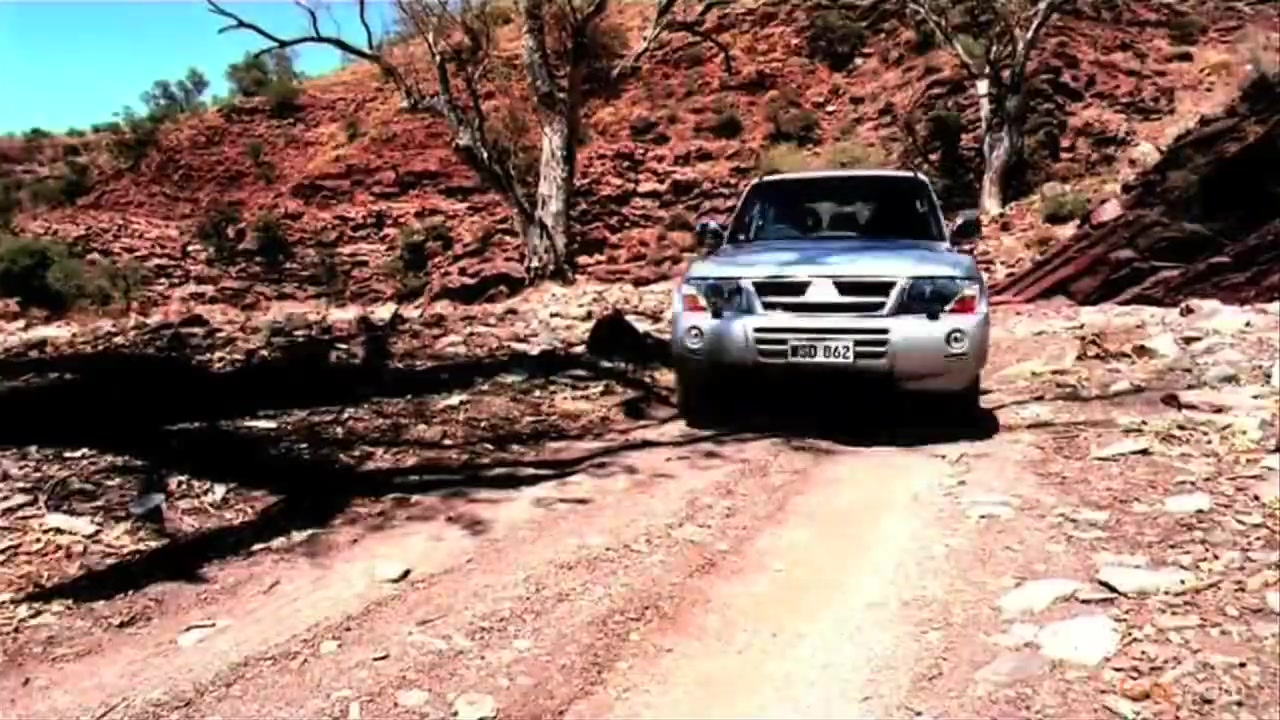car: (670, 164, 996, 414)
